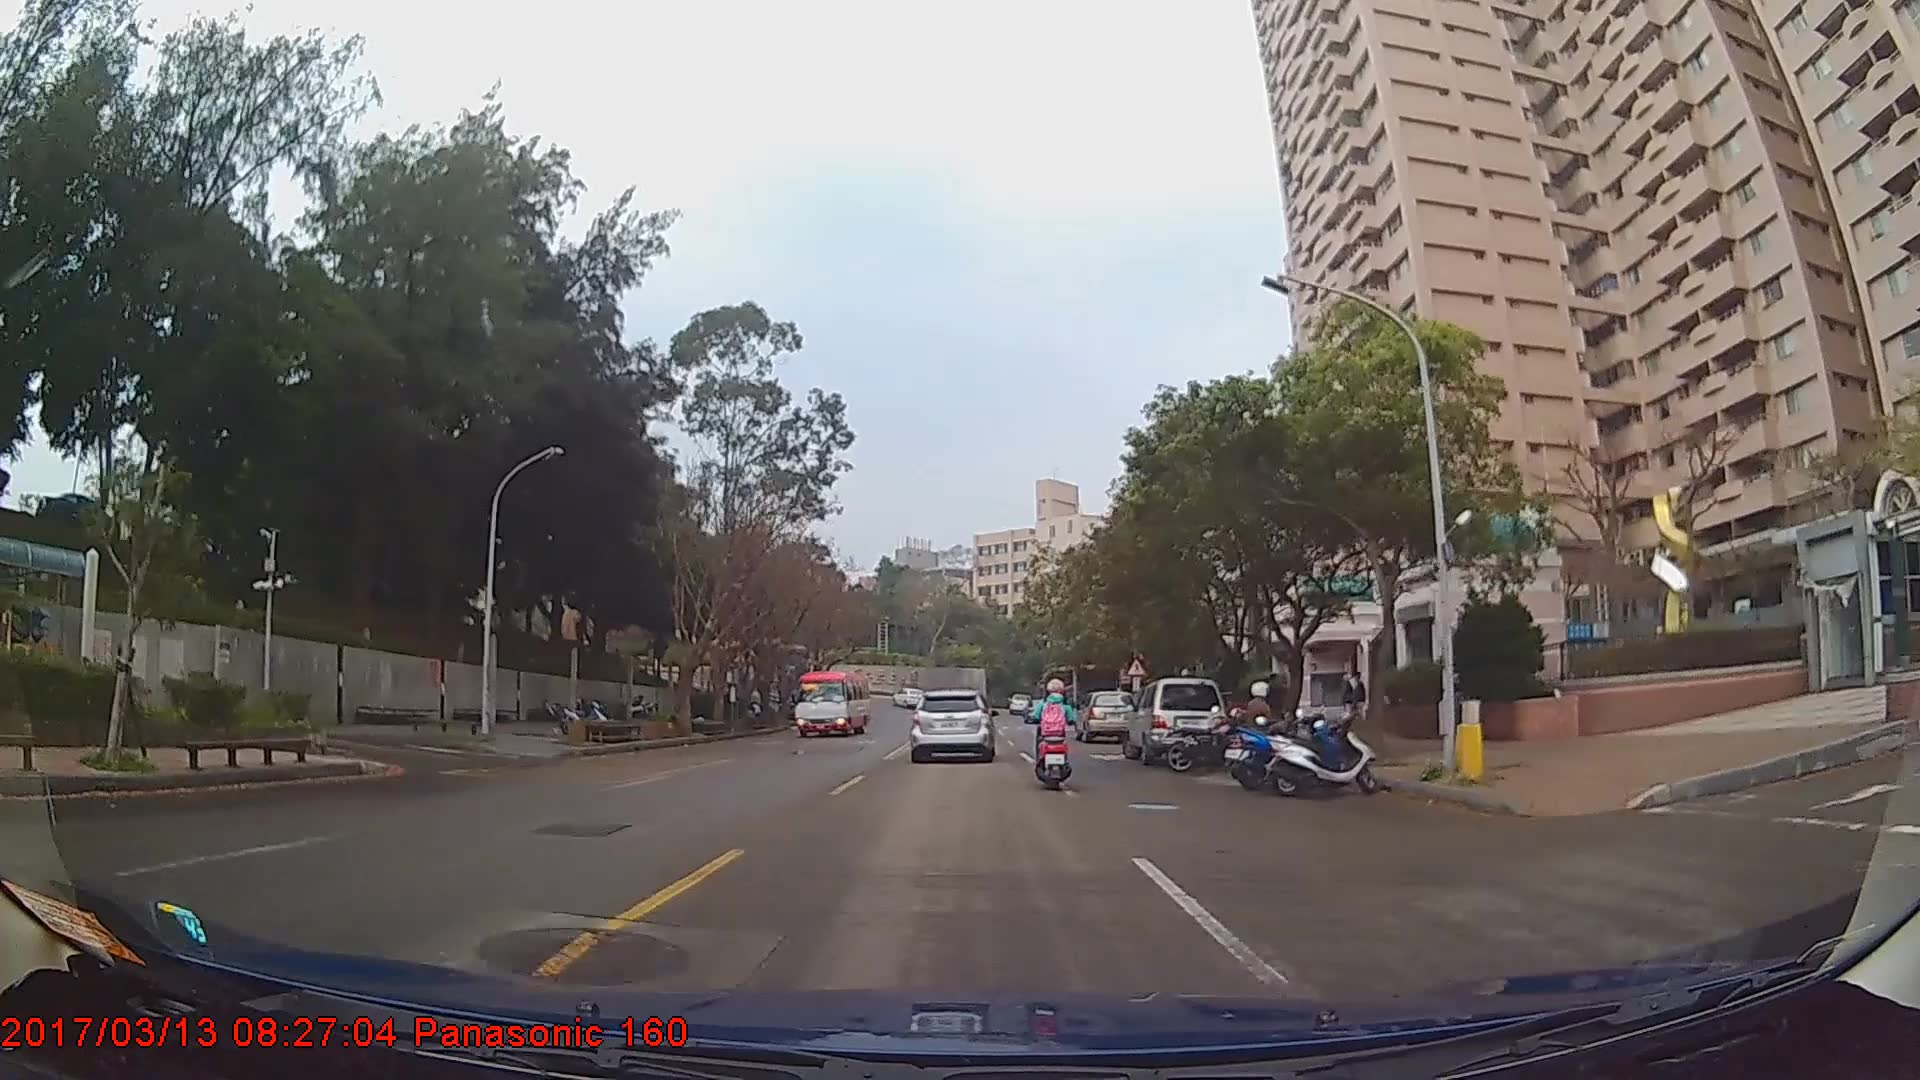rider: (1034, 672, 1084, 792), (1231, 675, 1287, 774)
vehicle: (1121, 673, 1225, 764), (908, 685, 993, 762), (792, 665, 870, 733), (1076, 687, 1136, 740), (889, 682, 927, 705)
